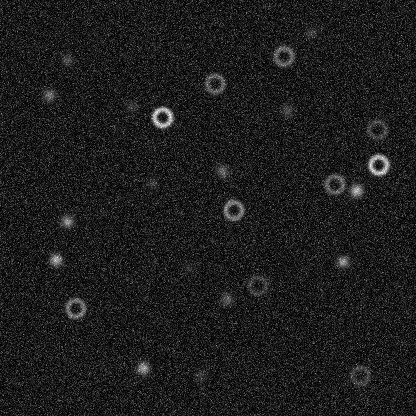Ring: (221, 198, 245, 222), (322, 172, 346, 196), (202, 71, 226, 95), (245, 273, 269, 297), (366, 152, 390, 176), (271, 44, 295, 68), (63, 296, 87, 320), (365, 117, 389, 141), (150, 105, 174, 129), (348, 363, 372, 387)
Spot: (279, 102, 295, 118), (180, 259, 196, 275), (59, 213, 75, 229), (58, 51, 74, 67), (334, 253, 350, 269), (218, 291, 234, 307), (135, 359, 151, 375), (123, 98, 139, 114), (302, 24, 318, 40), (47, 251, 63, 267), (144, 174, 160, 190), (348, 182, 364, 198), (41, 86, 57, 102), (214, 163, 230, 179), (193, 366, 209, 382)
